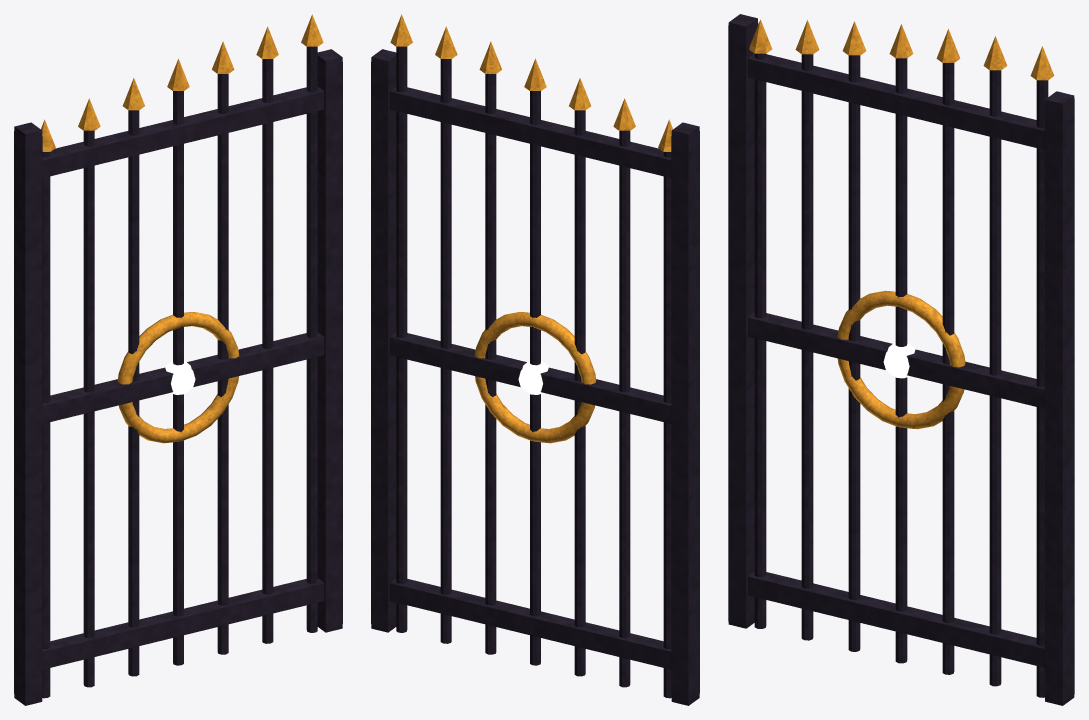
Rendered from MO_ExitGateDoorL.fbx.
3 views of the same model, side by side, from view 1: azimuth 30°, elevation 25°; view 2: azimuth 150°, elevation 25°; view 3: azimuth 330°, elevation 25° (orthographic). The views are drawn at different scales.
Visible parts, largest first — view 1: MO_ExitGateDoorL; view 2: MO_ExitGateDoorL; view 3: MO_ExitGateDoorL.
Part boxes in pixels (x1=…): MO_ExitGateDoorL: x1=14, y1=14, x2=342, y2=705; MO_ExitGateDoorL: x1=371, y1=14, x2=699, y2=705; MO_ExitGateDoorL: x1=728, y1=14, x2=1074, y2=705.
Bounding box in the file's own units: 2.91 × 5.39 × 0.28.
